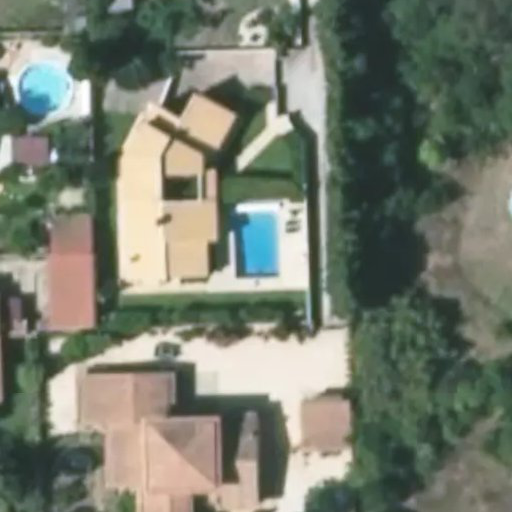pool: (232, 207, 279, 276)
